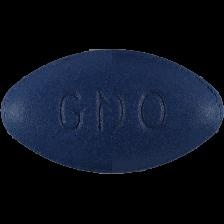68012-002: (0, 0, 224, 224)
